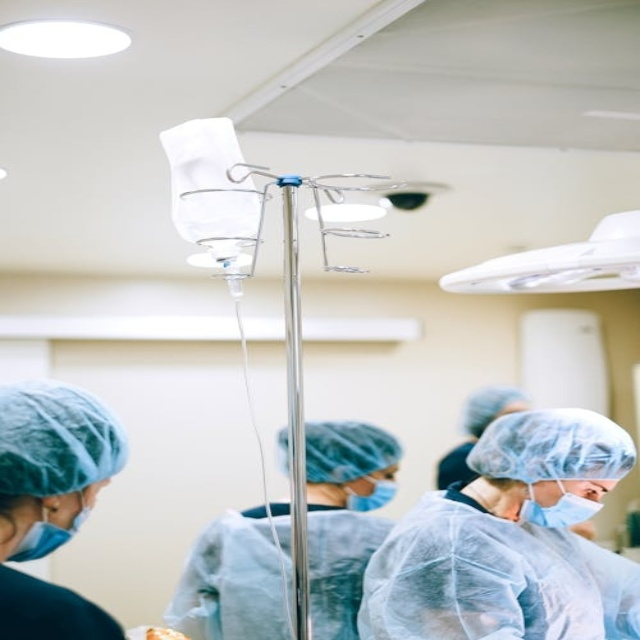Mascara: (3, 489, 78, 562), (523, 480, 605, 529), (343, 474, 398, 512)
Sin_gafas: (564, 474, 620, 503), (365, 466, 402, 482)
